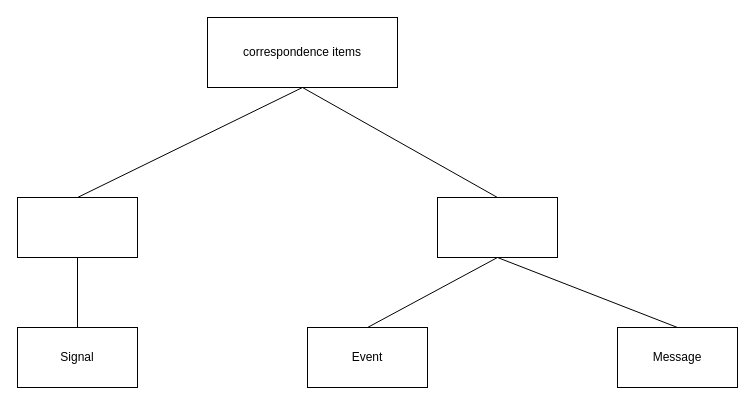
The diagram is 755 pixels wide and 405 high, and some of its shapes have lost their labels. The shapes that lost their labels are listed below. From the top down, each one's box as (x1, y1, x2, y2) in pixels, then its label:
(16, 196, 138, 258): unregistered
(436, 196, 558, 258): registered
